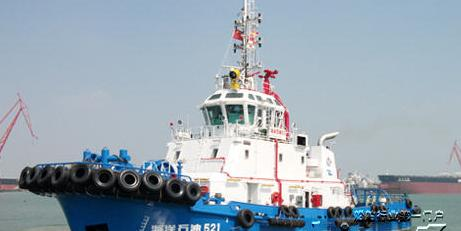otherboat: (15, 1, 415, 228)
